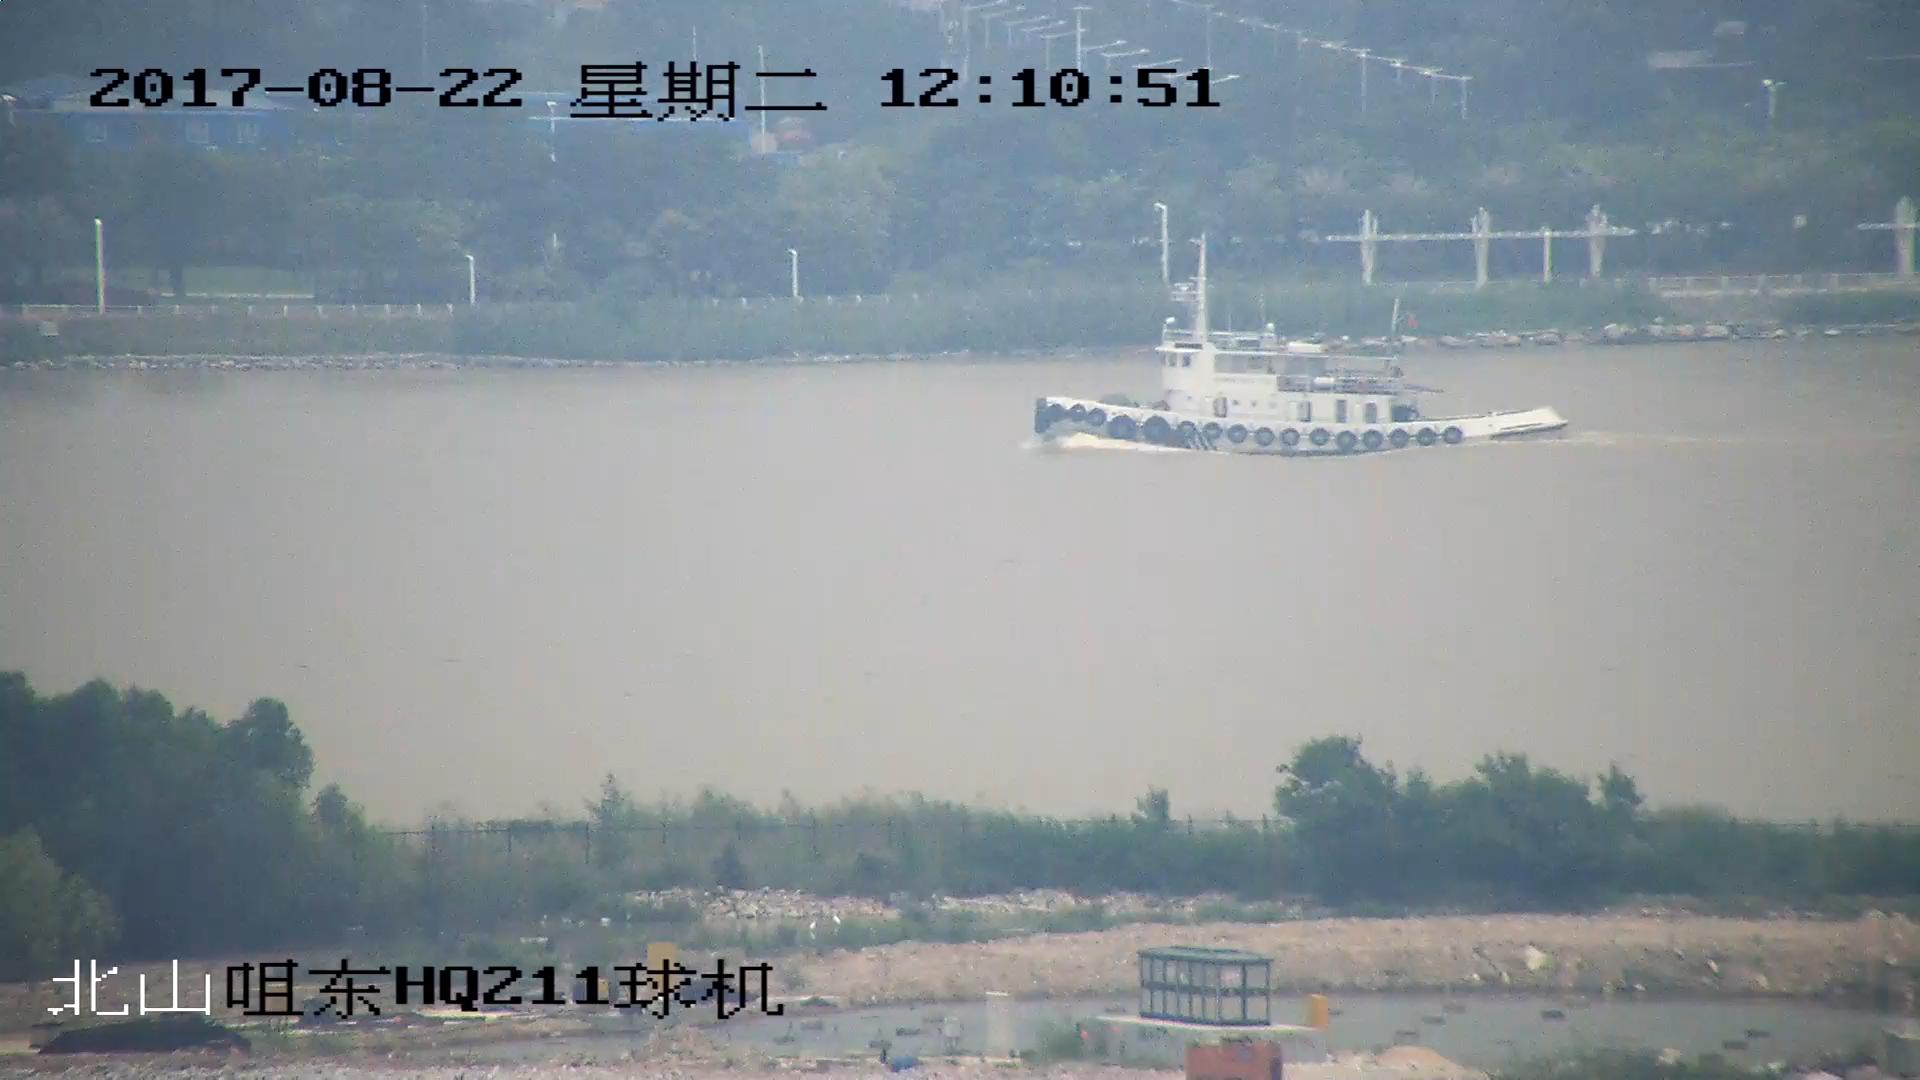passenger ship: (1028, 241, 1568, 458)
